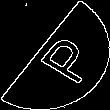P_NW: (18, 25, 92, 85)
